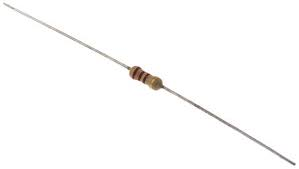resistor: (118, 56, 170, 91)
